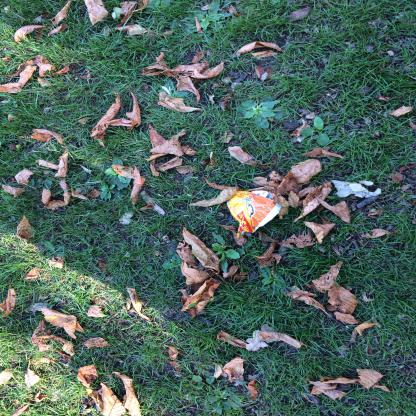plastik: (225, 190, 282, 238)
